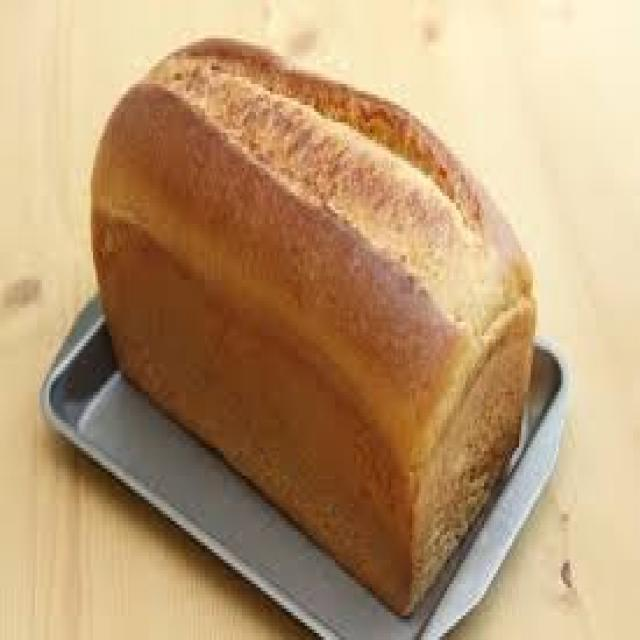bread: (92, 37, 534, 619)
